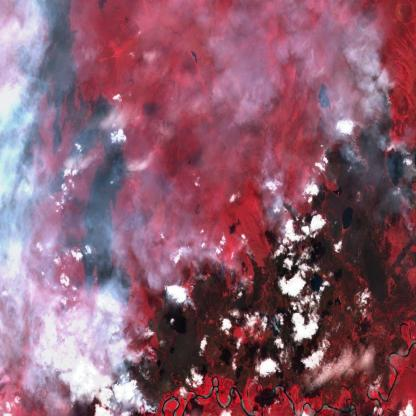fire: (324, 111, 371, 181), (164, 238, 230, 273), (258, 147, 289, 219), (395, 138, 416, 239), (131, 311, 158, 373), (52, 149, 84, 191), (375, 67, 400, 112), (132, 395, 162, 416)
